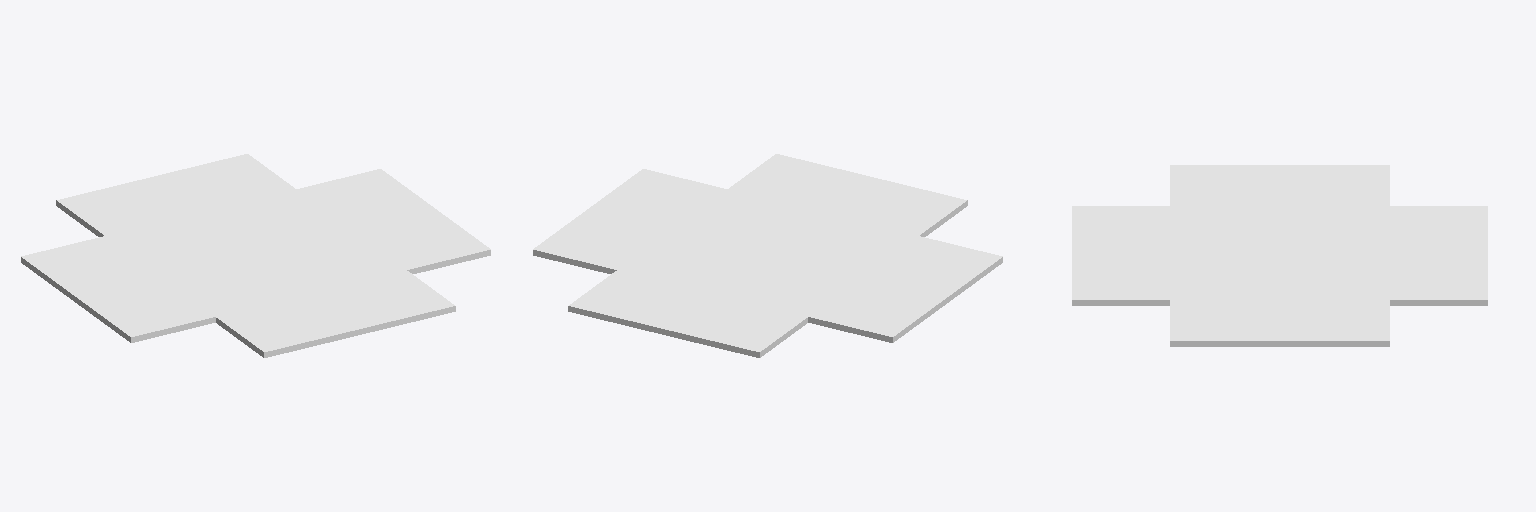
Rendered from plainroad_intersection_4.obj.
3 views of the same model, side by side, from view 1: azimuth 30°, elevation 25°; view 2: azimuth 150°, elevation 25°; view 3: azimuth 270°, elevation 25° (orthographic).
Visible parts, largest first — view 1: object 1; view 2: object 1; view 3: object 1.
Part boxes in pixels (bbox=[...]): object 1: bbox=[21, 154, 490, 357]; object 1: bbox=[533, 154, 1002, 357]; object 1: bbox=[1072, 165, 1487, 346].
Bounding box in the file's own units: 6.4 × 0.1 × 6.4.